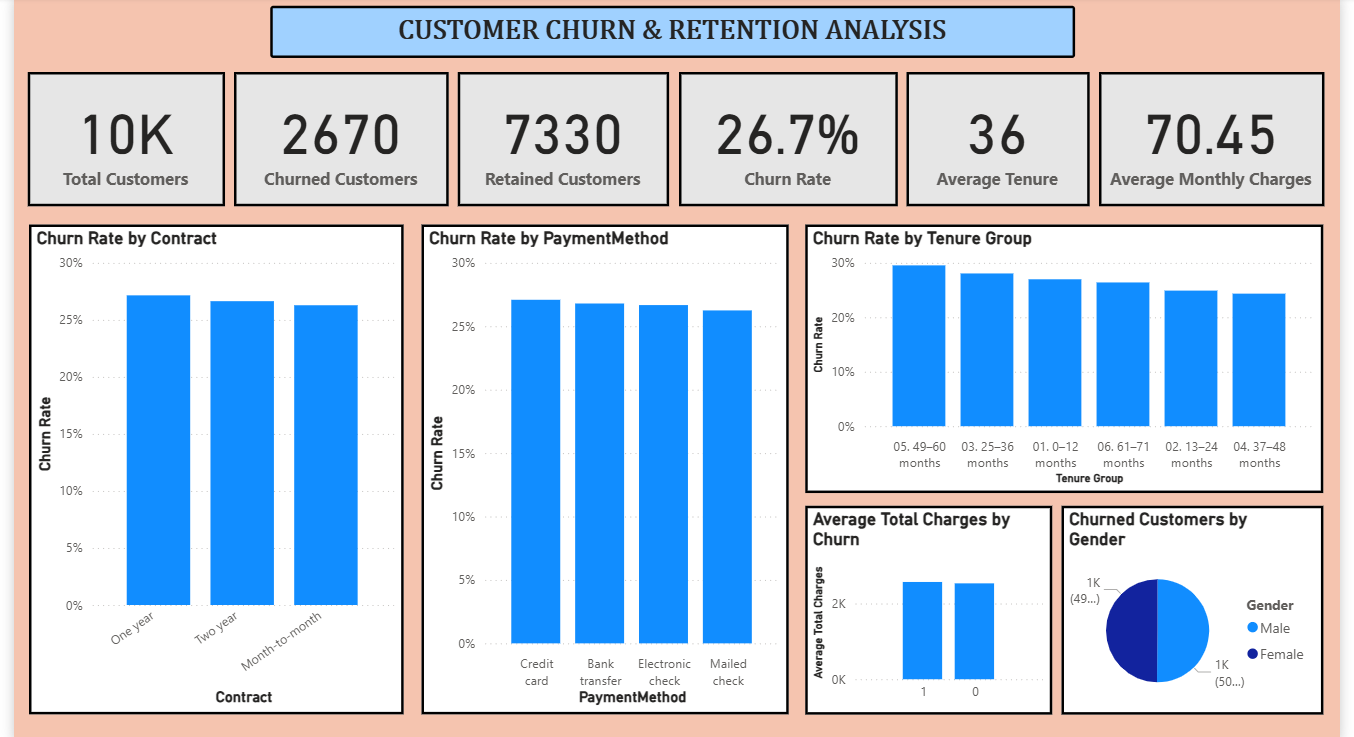

This screenshot's page, from the dashboard's own definition file:
{"tool":"powerbi","page":{"name":"Dashboard","canvas":[1280,720],"ordinal":0},"visuals":[{"type":"card","fields":{"Values":["Bank_Churn_Classification_Dataset.Churned Customers"]},"box":[212.3,72.8,207.4,129.6],"z":0},{"type":"card","fields":{"Values":["Bank_Churn_Classification_Dataset.Retained Customers"]},"box":[428.4,72.8,203.7,129.6],"z":1000},{"type":"card","fields":{"Values":["Bank_Churn_Classification_Dataset.Total Customers"]},"box":[13.6,72.8,190.1,129.6],"z":2000},{"type":"card","fields":{"Values":["Bank_Churn_Classification_Dataset.Churn Rate"]},"box":[642,72.8,211.1,129.6],"z":3000},{"type":"card","fields":{"Values":["Bank_Churn_Classification_Dataset.Average Tenure"]},"box":[861.7,72.8,176.5,129.6],"z":4000},{"type":"card","fields":{"Values":["Bank_Churn_Classification_Dataset.Average Monthly Charges"]},"box":[1046.9,72.8,217.3,129.6],"z":5000},{"type":"clusteredColumnChart","fields":{"Category":["Bank_Churn_Classification_Dataset.Contract"],"Y":["Bank_Churn_Classification_Dataset.Churn Rate"]},"box":[14.8,219.8,361.7,472.8],"z":6000},{"type":"clusteredColumnChart","fields":{"Category":["Bank_Churn_Classification_Dataset.PaymentMethod"],"Y":["Bank_Churn_Classification_Dataset.Churn Rate"]},"box":[393.8,219.8,354.3,472.8],"z":7000},{"type":"clusteredColumnChart","fields":{"Category":["Bank_Churn_Classification_Dataset.Tenure Group"],"Y":["Bank_Churn_Classification_Dataset.Churn Rate"]},"box":[764.2,219.8,500,259.3],"z":8000},{"type":"clusteredColumnChart","fields":{"Category":["Bank_Churn_Classification_Dataset.Churn"],"Y":["Bank_Churn_Classification_Dataset.Average Total Charges"]},"box":[764.2,491.4,238.3,201.2],"z":9000},{"type":"textbox","box":[246.9,8.6,776.5,50.6],"z":10000},{"type":"pieChart","fields":{"Category":["Bank_Churn_Classification_Dataset.Gender"],"Y":["Bank_Churn_Classification_Dataset.Churned Customers"]},"box":[1011.1,491.4,253.1,201.2],"z":11000}]}

Visuals, with their boxes in screenshot pixels (x1, y1, x2, y2):
card - Bank_Churn_Classification_Dataset.Churned Customers: [226,66,443,201]
card - Bank_Churn_Classification_Dataset.Retained Customers: [452,66,665,201]
card - Bank_Churn_Classification_Dataset.Total Customers: [18,66,217,201]
card - Bank_Churn_Classification_Dataset.Churn Rate: [675,66,896,201]
card - Bank_Churn_Classification_Dataset.Average Tenure: [905,66,1090,201]
card - Bank_Churn_Classification_Dataset.Average Monthly Charges: [1099,66,1326,201]
clusteredColumnChart - Bank_Churn_Classification_Dataset.Contract x Bank_Churn_Classification_Dataset.Churn Rate: [19,219,398,714]
clusteredColumnChart - Bank_Churn_Classification_Dataset.PaymentMethod x Bank_Churn_Classification_Dataset.Churn Rate: [416,219,786,714]
clusteredColumnChart - Bank_Churn_Classification_Dataset.Tenure Group x Bank_Churn_Classification_Dataset.Churn Rate: [803,219,1326,491]
clusteredColumnChart - Bank_Churn_Classification_Dataset.Churn x Bank_Churn_Classification_Dataset.Average Total Charges: [803,504,1053,714]
textbox: [262,0,1074,51]
pieChart - Bank_Churn_Classification_Dataset.Gender x Bank_Churn_Classification_Dataset.Churned Customers: [1062,504,1326,714]
